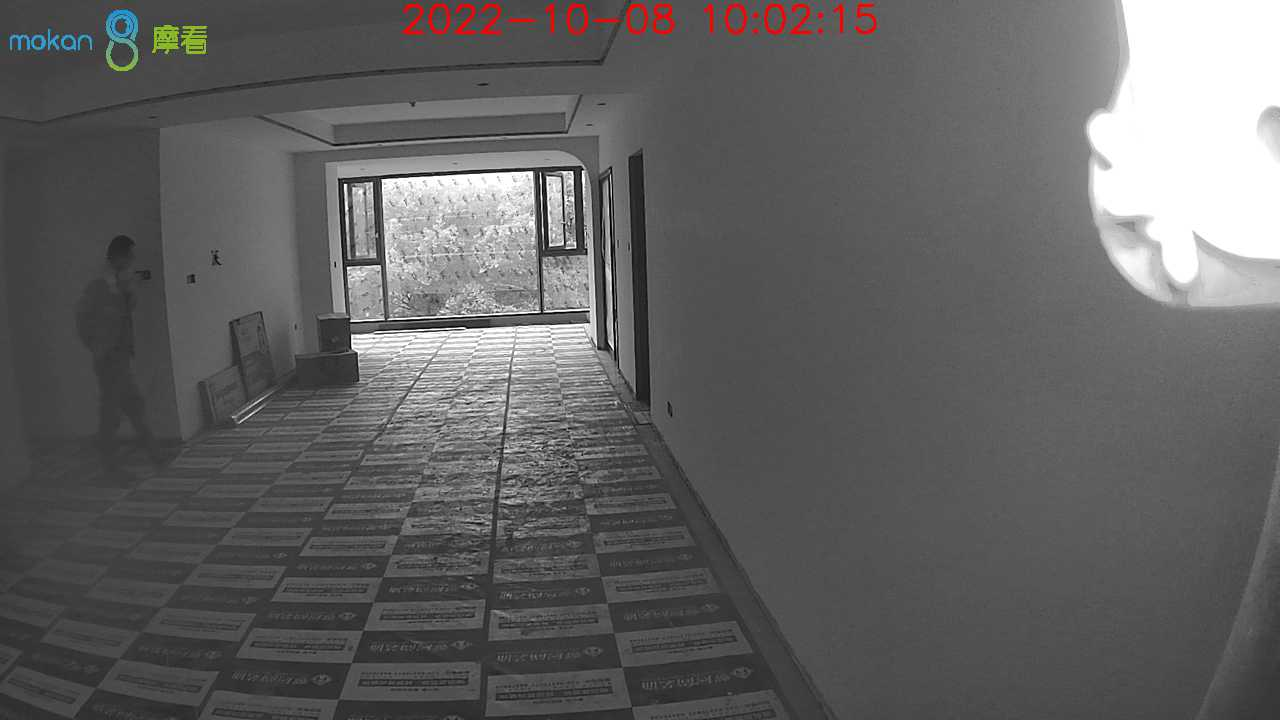people: (77, 236, 174, 468)
window: (341, 170, 592, 318)
